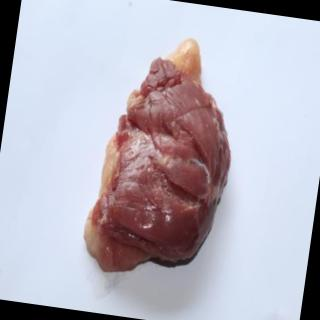Daging Sapi: (82, 31, 248, 287)
